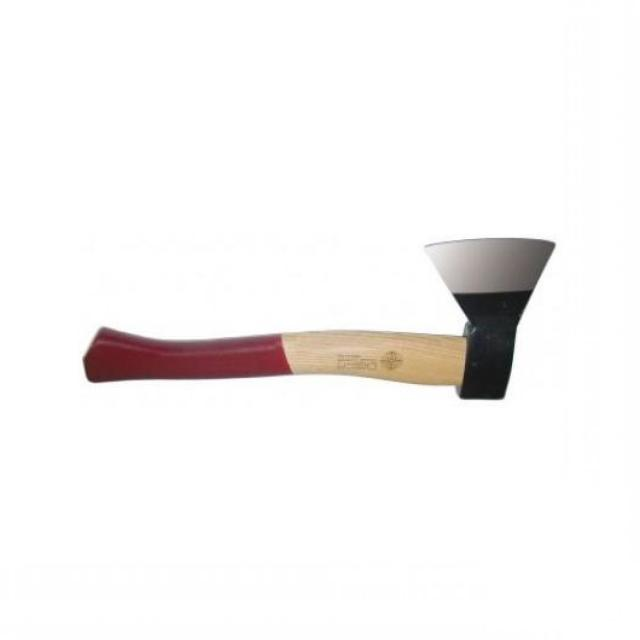Kapak: (99, 233, 546, 410)
